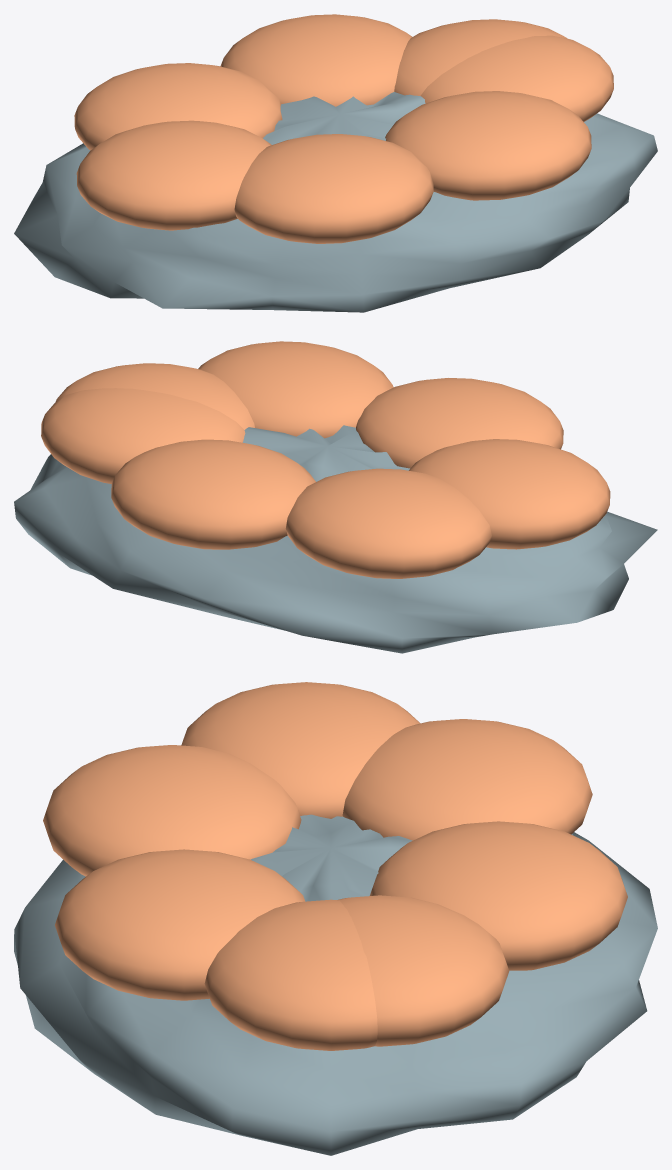
File: underwater-reef-worlds-encrusting-coral-3253c674__6999.glb
The picture shows the model from 3 angles, top to bottom: view 1: azimuth 30°, elevation 25°; view 2: azimuth 150°, elevation 25°; view 3: azimuth 270°, elevation 25°; orthographic projection. The views are drawn at different scales.
Visible parts, largest first — view 1: encrusting-coral; view 2: encrusting-coral; view 3: encrusting-coral.
Part boxes in pixels (x1,y1,x2,y2): encrusting-coral: (14,14,657,312); encrusting-coral: (14,341,657,653); encrusting-coral: (14,682,657,1155).
Size of the model in its own units: 1.35 by 0.26 by 0.9954.
